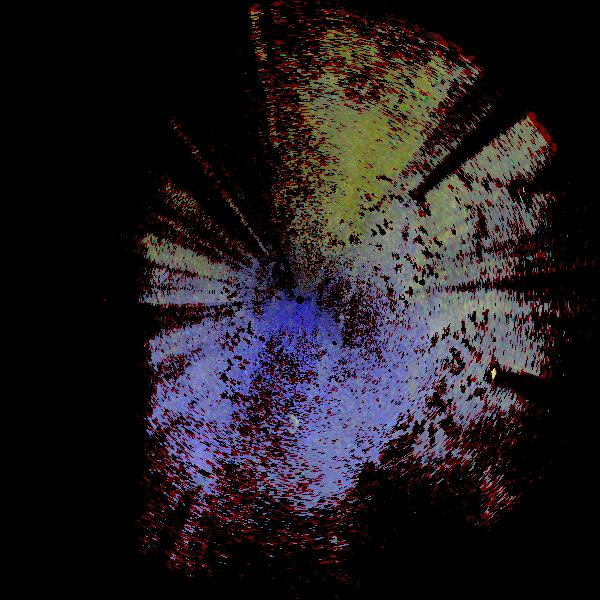roost: (286, 417, 298, 429)
